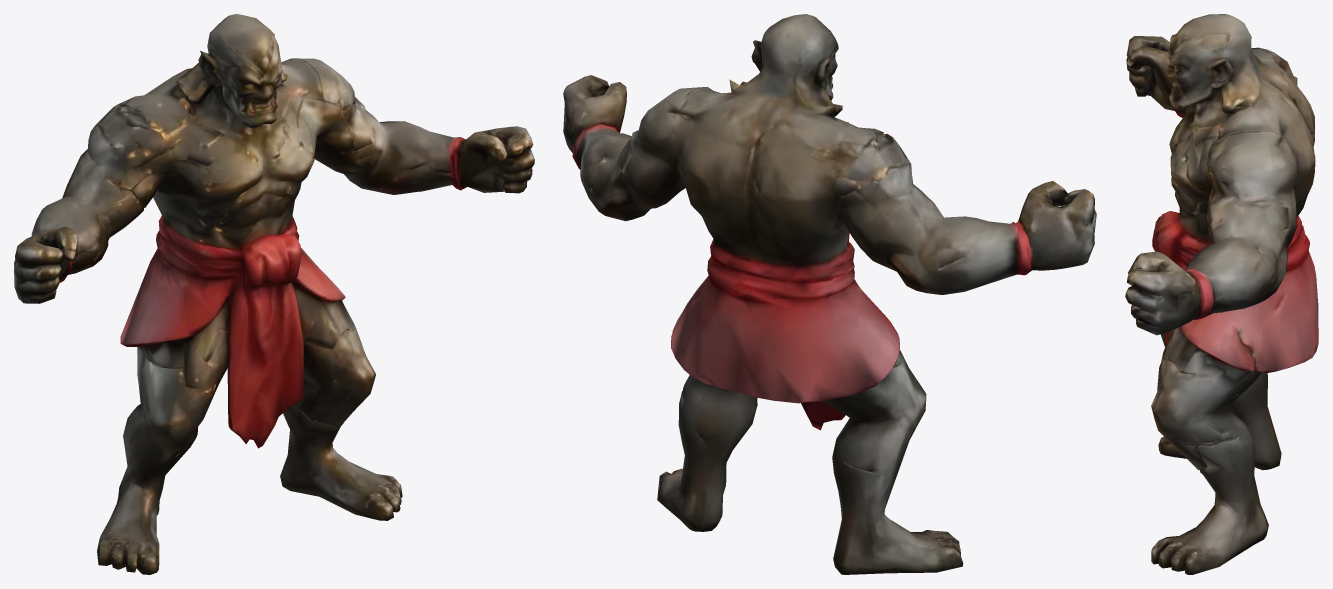
File: y_demonstatue.glb
The picture shows the model from 3 angles, left to right: view 1: azimuth 30°, elevation 25°; view 2: azimuth 150°, elevation 25°; view 3: azimuth 270°, elevation 25°; orthographic projection. The views are drawn at different scales.
Visible parts, largest first — view 1: tripo_node_a4d198ea-c411-415d-ba0d-0cdc4efb8305; view 2: tripo_node_a4d198ea-c411-415d-ba0d-0cdc4efb8305; view 3: tripo_node_a4d198ea-c411-415d-ba0d-0cdc4efb8305.
Boxes of the visible parts, <box> form: tripo_node_a4d198ea-c411-415d-ba0d-0cdc4efb8305: <box>14,14,534,574</box>; tripo_node_a4d198ea-c411-415d-ba0d-0cdc4efb8305: <box>563,14,1096,574</box>; tripo_node_a4d198ea-c411-415d-ba0d-0cdc4efb8305: <box>1125,14,1318,574</box>.
Bounding box in the file's own units: 0.9995 × 0.9383 × 0.3335.
1 material, 1 textured.
